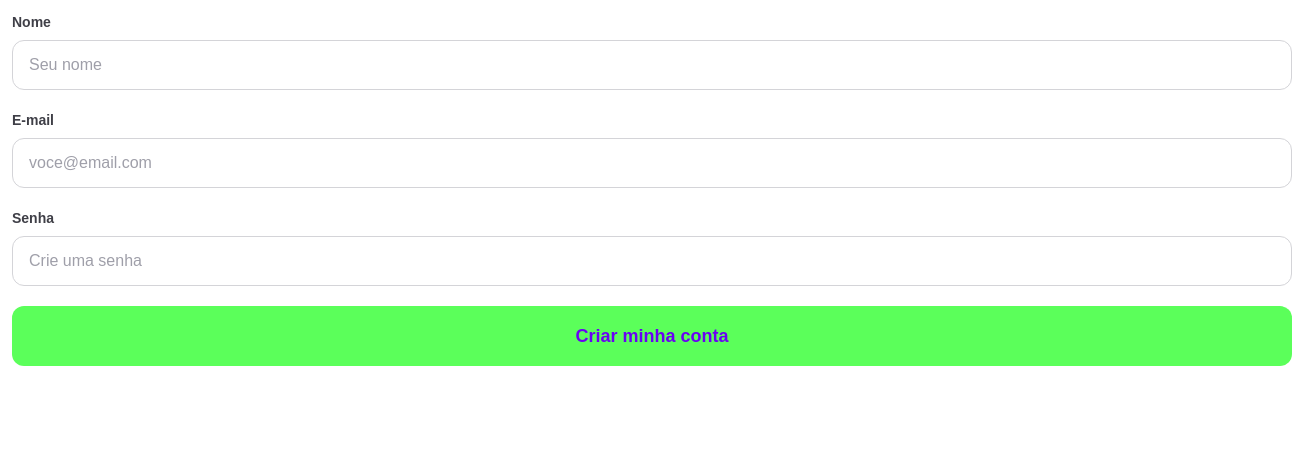
SignupForm › exibe erro quando a senha tem menos de 6 caracteres
In the field labelled "Nome": (652, 65) [12,40,1292,90], type "Ellen"
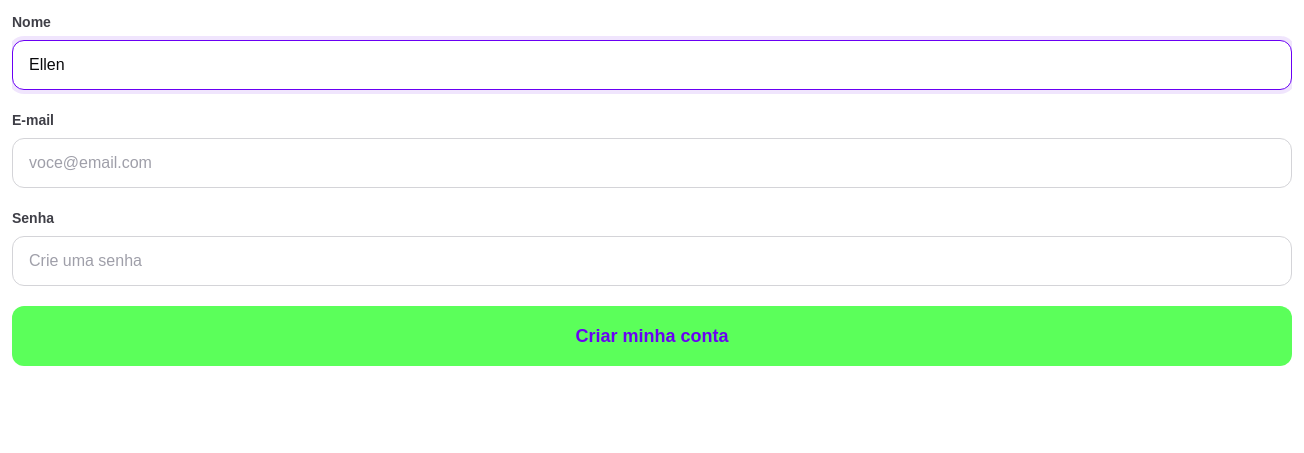
In the field labelled "E-mail": (652, 163) [12,138,1292,188], type "ellen@email.com"
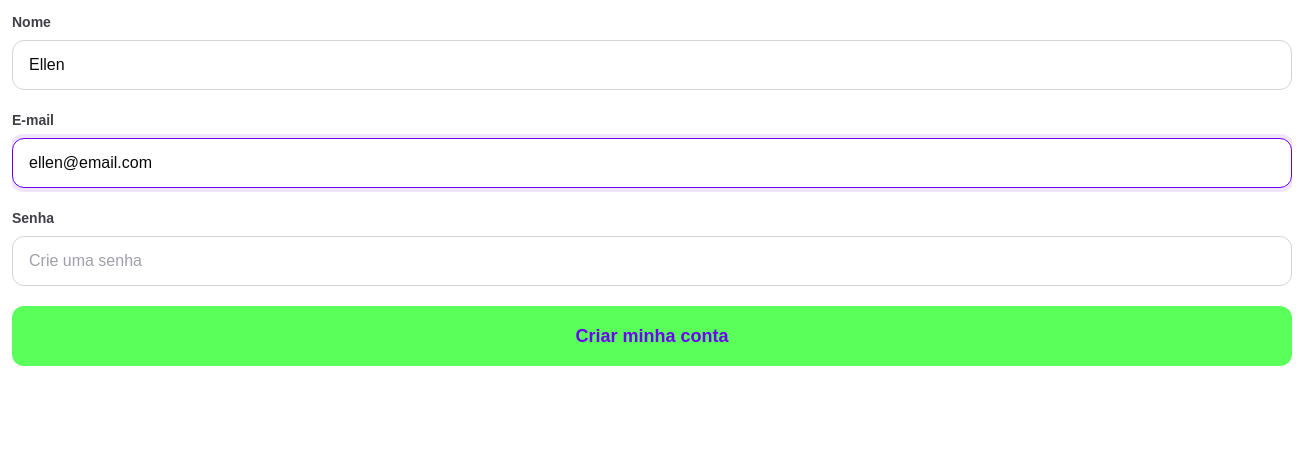
In the password field labelled "Senha": (652, 261) [12,236,1292,286], type "123"
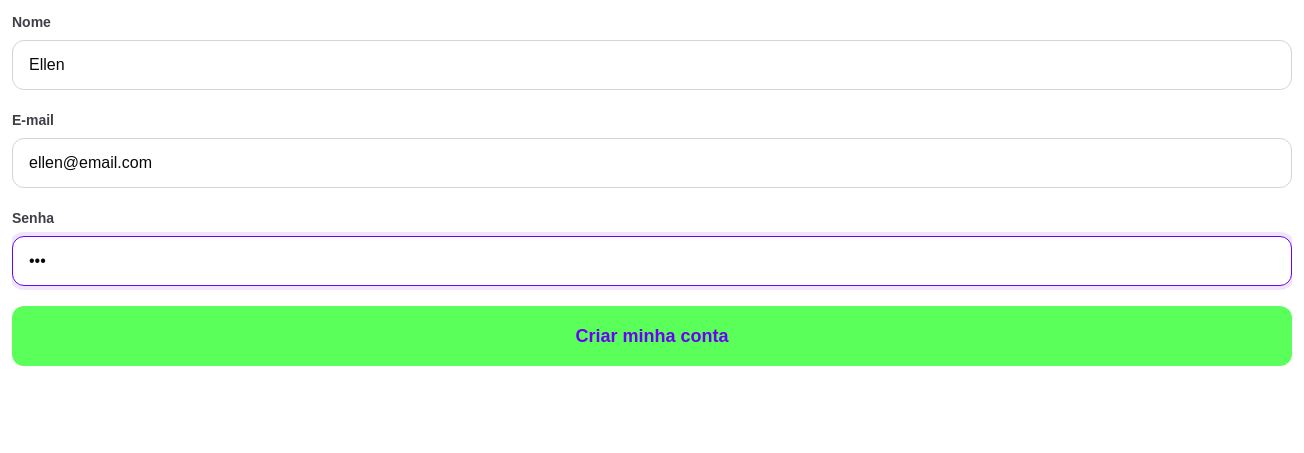
Click the button "Criar minha conta": (652, 336) [12,306,1292,366]
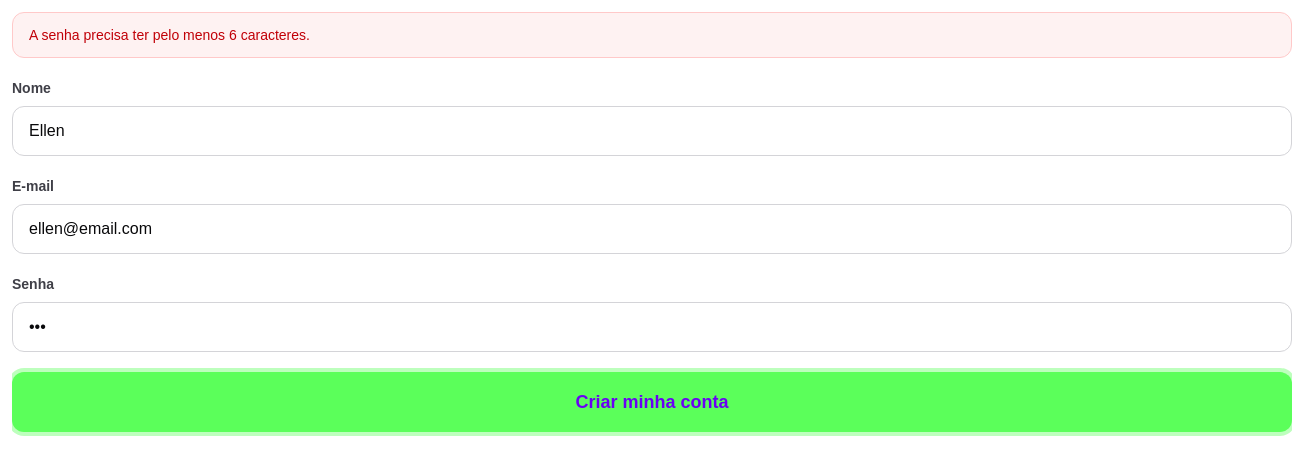
Check: the text "A senha precisa ter pelo menos 6 caracteres." is shown, box [12,12,1292,58]
